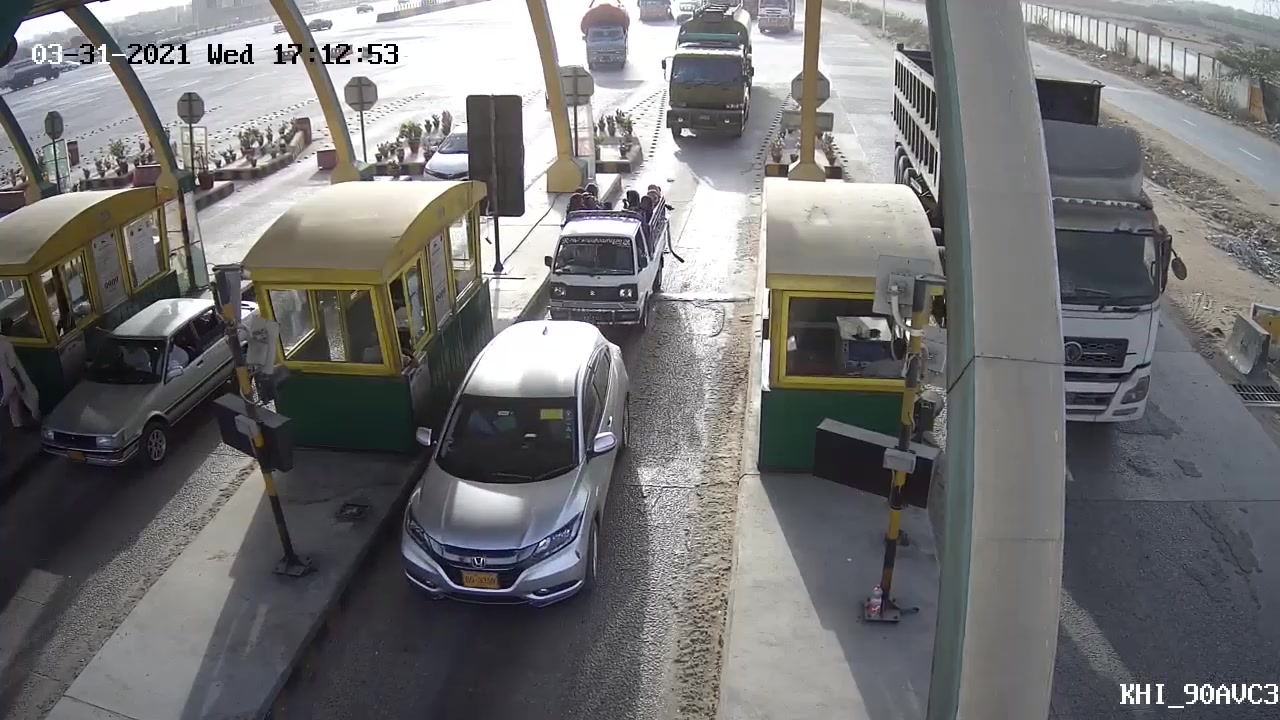F1: (398, 316, 643, 616), (536, 186, 680, 327)
